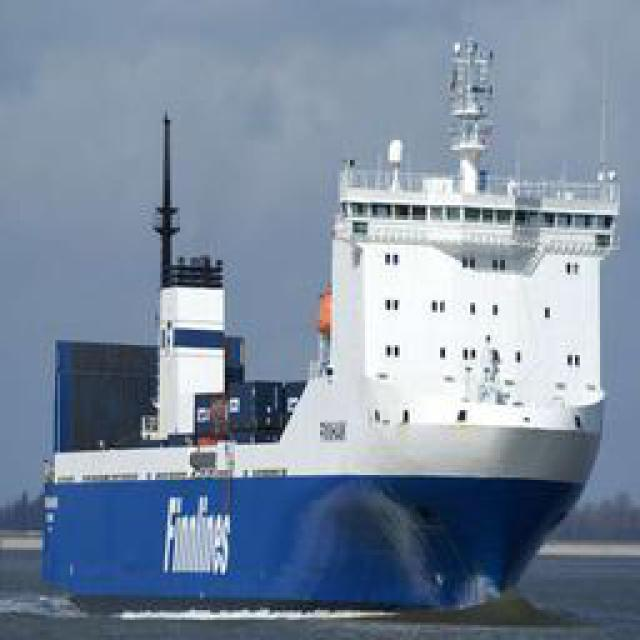Ship: (44, 6, 604, 619)
